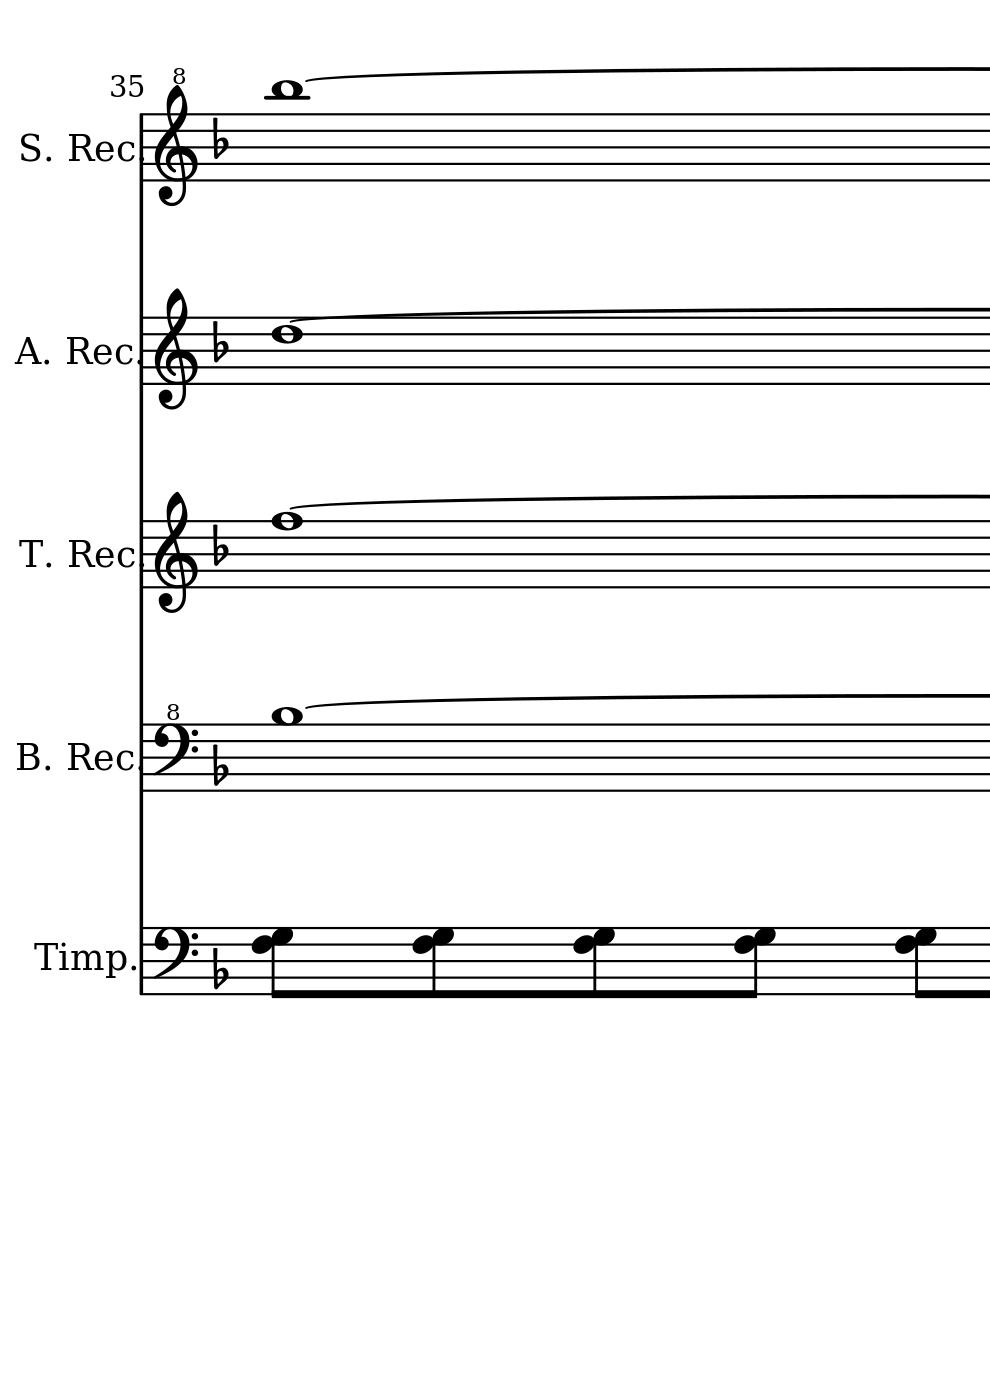1_11: (262, 78, 307, 183)
1_6: (271, 315, 304, 386)
1_8: (271, 510, 303, 591)
1_9: (269, 705, 305, 795)
3: (108, 72, 127, 100)
5: (127, 72, 145, 101)
8_7_8: (250, 925, 296, 998), (411, 927, 457, 999), (572, 925, 618, 998), (730, 925, 776, 998), (892, 927, 937, 999)
Fclef: (152, 925, 199, 996)
Flat: (209, 946, 229, 993), (210, 320, 230, 365), (210, 743, 229, 791), (211, 522, 230, 569), (211, 117, 227, 160)
Gclef: (153, 492, 200, 614), (154, 288, 199, 413)
High_Fclef: (147, 701, 200, 795)
High_Gclef: (150, 65, 200, 209)
Rec: (66, 538, 136, 571), (67, 132, 136, 164), (66, 741, 135, 772), (65, 335, 134, 365)
Single_barline: (135, 521, 154, 590), (134, 927, 153, 995), (135, 114, 154, 182), (135, 317, 154, 385), (135, 724, 154, 792)
Timp: (32, 939, 127, 981)
